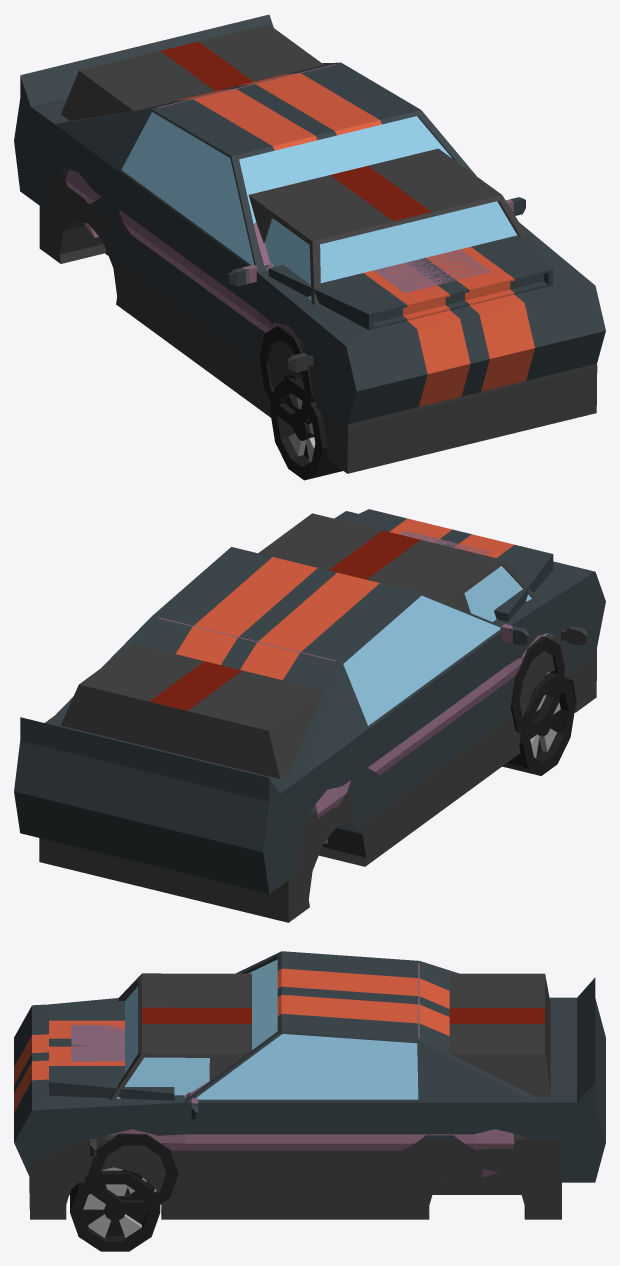
File: CarModels.fbx
3 renders of one model, top to bottom at view 1: azimuth 30°, elevation 25°; view 2: azimuth 150°, elevation 25°; view 3: azimuth 270°, elevation 25°, orthographic. The views are drawn at different scales.
Visible parts, largest first — view 1: Mustang Body, Cargo Van BASIC SHAPE, Mini Cooper Body, TyreRF, TyreMustangFR; view 2: Mustang Body, Cargo Van BASIC SHAPE, Mini Cooper Body, TyreRF, TyreMustangFR; view 3: Mustang Body, Cargo Van BASIC SHAPE, Mini Cooper Body, TyreLF, TyreMustangFL.
Part boxes in pixels (x1,y1,x2,y2): Mustang Body: (14,14,605,429); Cargo Van BASIC SHAPE: (39,24,597,473); Mini Cooper Body: (65,64,513,334); TyreRF: (270,378,342,480); TyreMustangFR: (259,325,315,427); Mustang Body: (14,509,605,893); Cargo Van BASIC SHAPE: (39,513,596,922); Mini Cooper Body: (158,530,545,843); TyreRF: (502,672,575,775); TyreMustangFR: (510,636,564,738); Mustang Body: (14,951,605,1182); Cargo Van BASIC SHAPE: (29,973,561,1219); Mini Cooper Body: (71,963,514,1177); TyreLF: (70,1170,160,1251); TyreMustangFL: (88,1133,178,1212).
Size of the model in its own units: 1.66 by 1.27 by 3.28.
